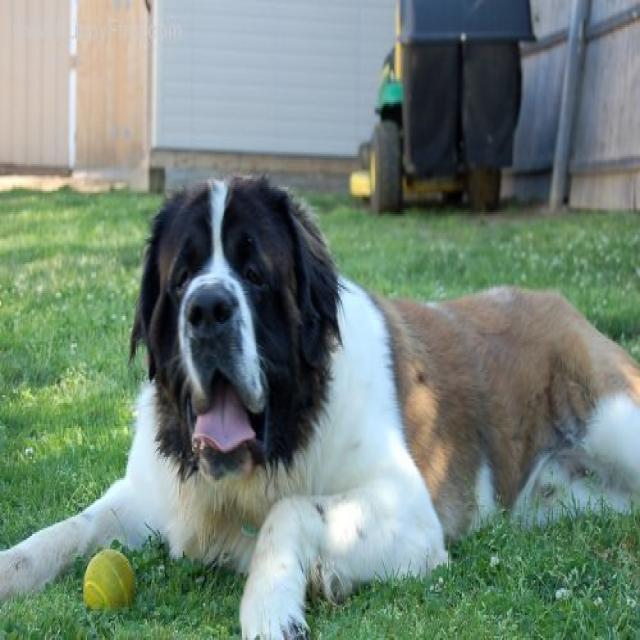dog-saint_bernard: (1, 166, 637, 636)
